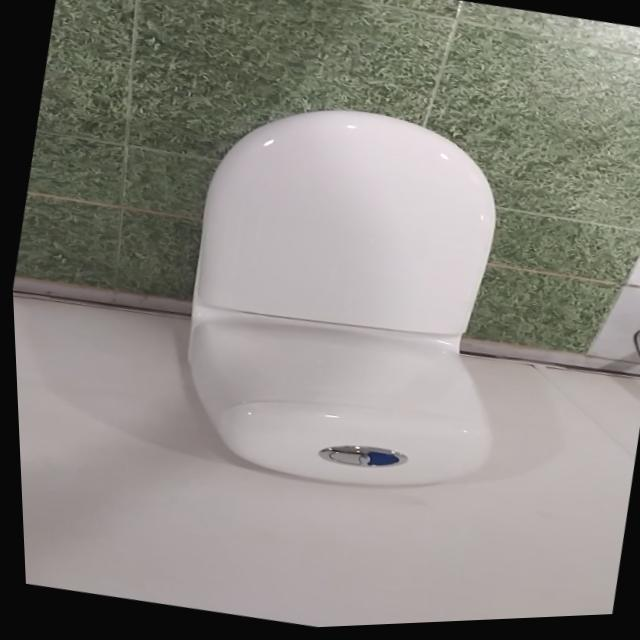toilet: (147, 81, 551, 522)
